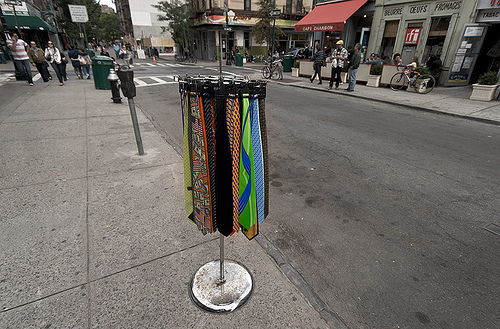Person: (44, 41, 65, 92), (329, 37, 346, 94), (349, 38, 360, 94)
Zebra crossing: (133, 73, 171, 88)
